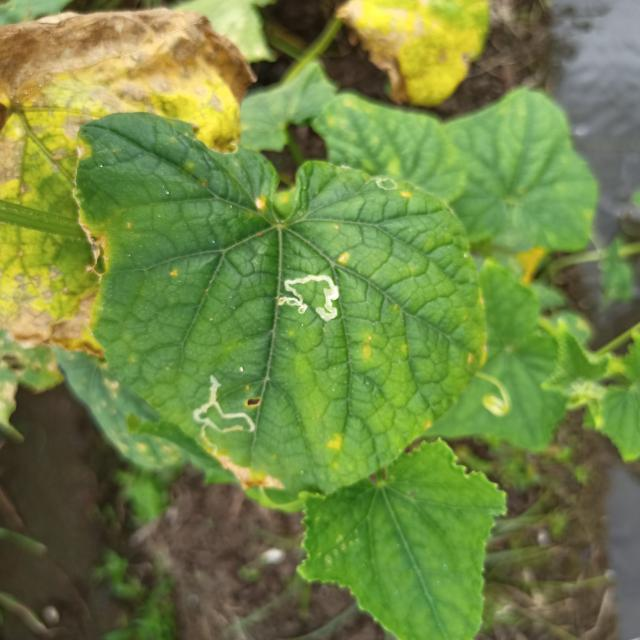disease_cucumber: (465, 337, 492, 367), (325, 432, 344, 468), (360, 333, 374, 361), (336, 250, 351, 267), (398, 189, 413, 202), (254, 195, 266, 211), (170, 267, 180, 279)
